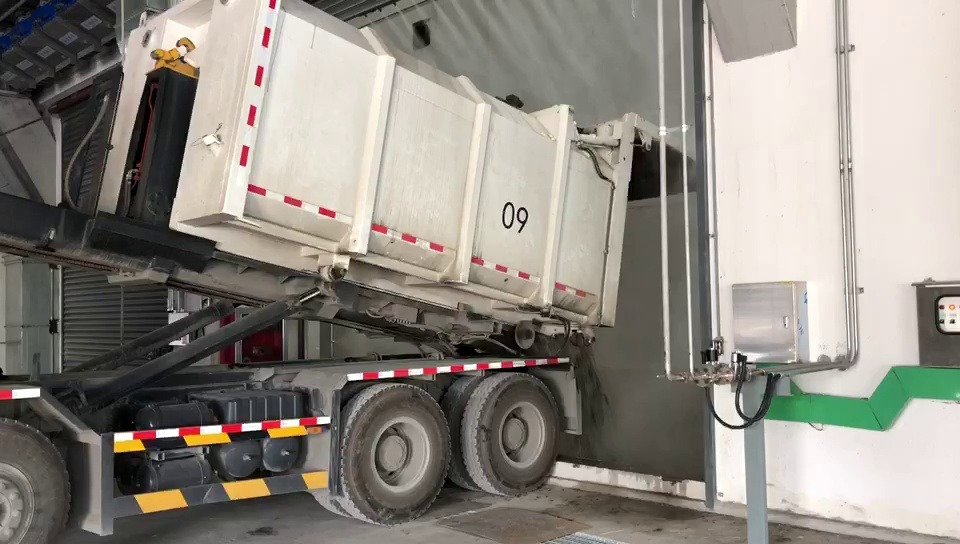truck: (0, 0, 658, 544)
